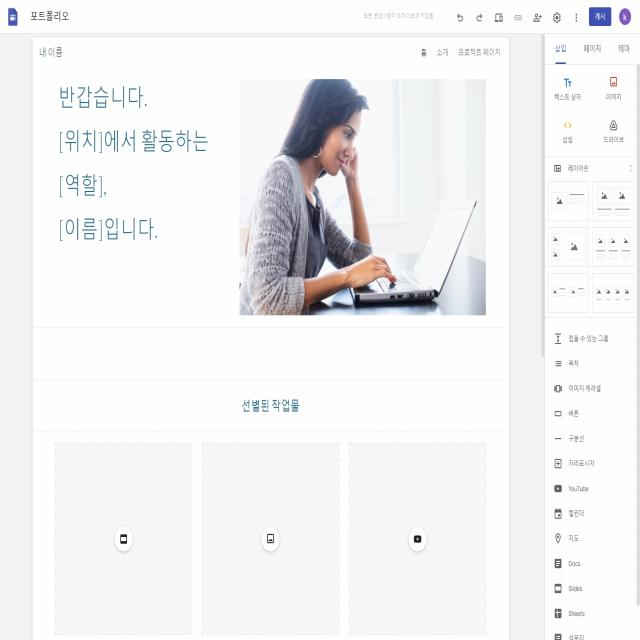menu-bar: (450, 3, 636, 30)
menu-panel: (544, 34, 636, 64)
